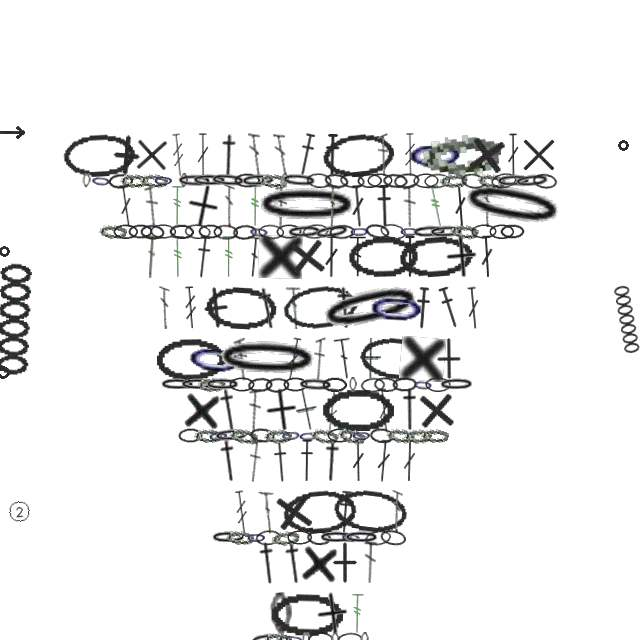chain: (314, 275, 428, 341), (456, 175, 569, 236), (213, 336, 322, 382), (253, 184, 361, 227), (419, 129, 503, 180), (331, 486, 410, 537), (281, 282, 359, 333), (358, 334, 436, 384), (281, 487, 359, 536), (320, 130, 396, 180), (397, 233, 474, 281), (204, 284, 279, 331), (62, 132, 137, 178), (270, 592, 343, 636), (347, 235, 420, 279), (155, 337, 227, 381), (321, 388, 394, 431), (184, 335, 247, 383), (366, 285, 428, 331), (405, 132, 466, 177), (269, 592, 293, 636), (313, 222, 351, 242), (513, 172, 551, 190), (209, 172, 247, 189), (280, 172, 318, 189), (213, 427, 250, 444), (240, 172, 277, 189), (337, 426, 367, 446), (297, 377, 334, 393), (286, 224, 323, 240), (411, 224, 448, 240), (428, 224, 465, 240), (176, 173, 213, 189), (495, 173, 532, 189), (210, 530, 247, 545), (318, 530, 355, 545), (343, 530, 380, 545), (159, 377, 196, 392), (179, 377, 216, 392), (204, 377, 241, 392), (438, 377, 475, 392), (191, 173, 228, 188), (379, 528, 407, 547), (379, 222, 407, 241), (490, 171, 518, 190), (271, 529, 300, 547), (229, 427, 258, 445), (310, 427, 339, 445), (477, 172, 506, 190), (364, 222, 391, 241), (364, 529, 392, 547), (386, 427, 415, 444), (197, 376, 226, 393), (450, 223, 479, 240), (439, 172, 468, 189), (323, 172, 350, 190), (460, 172, 487, 190), (339, 172, 365, 190), (532, 172, 558, 190), (184, 223, 211, 240), (302, 223, 329, 240), (393, 172, 420, 189), (264, 428, 292, 444), (404, 428, 432, 444), (255, 529, 281, 546), (306, 529, 332, 546), (249, 427, 275, 444), (369, 427, 395, 444), (373, 376, 399, 393), (306, 172, 332, 189), (226, 530, 254, 545), (194, 428, 222, 443), (421, 428, 449, 443), (99, 224, 127, 239), (120, 173, 148, 188), (140, 173, 168, 188), (259, 173, 287, 188), (247, 377, 273, 393), (360, 377, 386, 393), (232, 224, 258, 240), (258, 224, 284, 240), (329, 224, 355, 240), (382, 173, 408, 189), (424, 173, 450, 189), (265, 377, 290, 393), (140, 224, 165, 240), (213, 224, 238, 240), (108, 173, 133, 189), (229, 377, 255, 392), (425, 377, 451, 392), (150, 224, 176, 239), (276, 224, 302, 239), (471, 224, 497, 239), (234, 173, 260, 188), (367, 173, 393, 188), (413, 173, 439, 188), (287, 530, 312, 545), (178, 428, 203, 443), (327, 428, 352, 443), (283, 377, 308, 392), (322, 377, 347, 392), (392, 377, 417, 392), (113, 224, 138, 239), (128, 224, 153, 239), (169, 224, 194, 239), (198, 224, 223, 239), (489, 224, 514, 239), (500, 224, 525, 239), (357, 173, 382, 188), (340, 529, 362, 546), (280, 427, 302, 444), (412, 377, 434, 393), (248, 224, 270, 240), (90, 173, 112, 189), (249, 631, 287, 640), (208, 428, 229, 444), (298, 428, 319, 444), (246, 530, 267, 545), (351, 428, 372, 443), (349, 224, 370, 239), (399, 224, 420, 239), (153, 173, 174, 188), (264, 632, 292, 640), (337, 632, 363, 640), (283, 631, 306, 640), (308, 632, 333, 640), (82, 173, 91, 188), (280, 173, 289, 188), (349, 377, 357, 392), (180, 173, 188, 188), (331, 632, 340, 640), (360, 632, 369, 640), (302, 632, 310, 640)
double: (333, 336, 356, 381), (283, 337, 304, 381), (141, 235, 162, 279), (244, 235, 265, 279), (116, 184, 136, 228), (258, 490, 277, 534), (375, 388, 393, 432), (349, 184, 367, 228), (349, 235, 367, 278), (323, 184, 341, 227), (375, 439, 392, 483), (233, 337, 250, 381), (465, 286, 482, 330), (285, 286, 302, 329), (452, 184, 469, 227), (144, 184, 160, 228), (273, 133, 289, 177), (479, 235, 495, 278), (363, 541, 378, 584), (402, 439, 417, 482), (324, 235, 339, 278), (248, 439, 262, 482), (351, 439, 365, 482), (196, 133, 210, 176), (248, 133, 262, 176), (506, 133, 520, 176), (390, 490, 403, 533), (248, 388, 261, 431), (313, 337, 326, 380), (403, 184, 416, 227), (377, 133, 390, 176), (223, 184, 235, 227), (275, 184, 287, 227), (481, 184, 493, 227), (159, 286, 170, 329)
enseble_chain: (0, 262, 35, 378), (612, 284, 640, 356)
half_double: (252, 285, 283, 331), (214, 387, 244, 432), (280, 540, 308, 585), (215, 438, 243, 483), (318, 438, 346, 483), (435, 285, 463, 330), (254, 541, 282, 585), (215, 133, 243, 177), (294, 132, 319, 177), (397, 388, 423, 431), (332, 286, 358, 329), (335, 490, 355, 534), (413, 286, 433, 330), (193, 235, 213, 279), (271, 439, 290, 483), (375, 184, 393, 227), (323, 133, 341, 176), (298, 439, 315, 482), (402, 235, 418, 278)
noise: (6, 498, 33, 525), (0, 124, 27, 140), (617, 139, 630, 152), (0, 365, 11, 380), (0, 245, 11, 258)
single: (269, 487, 318, 536), (462, 130, 511, 179), (192, 284, 239, 331), (283, 233, 330, 280), (399, 336, 446, 382), (413, 387, 459, 433), (103, 132, 149, 178), (129, 132, 174, 177), (298, 540, 342, 586), (258, 235, 303, 279), (181, 387, 224, 433), (182, 182, 223, 230), (427, 337, 470, 380), (517, 133, 560, 176), (324, 541, 366, 584), (313, 591, 351, 637), (262, 387, 300, 433), (443, 234, 479, 279), (292, 387, 322, 433), (360, 337, 382, 380)
treble: (425, 184, 447, 228), (232, 490, 251, 534), (323, 388, 341, 432), (169, 133, 187, 177), (182, 286, 199, 329), (170, 235, 186, 278), (221, 235, 237, 278), (350, 592, 365, 635), (170, 184, 185, 227), (248, 184, 262, 227), (403, 133, 417, 176)
